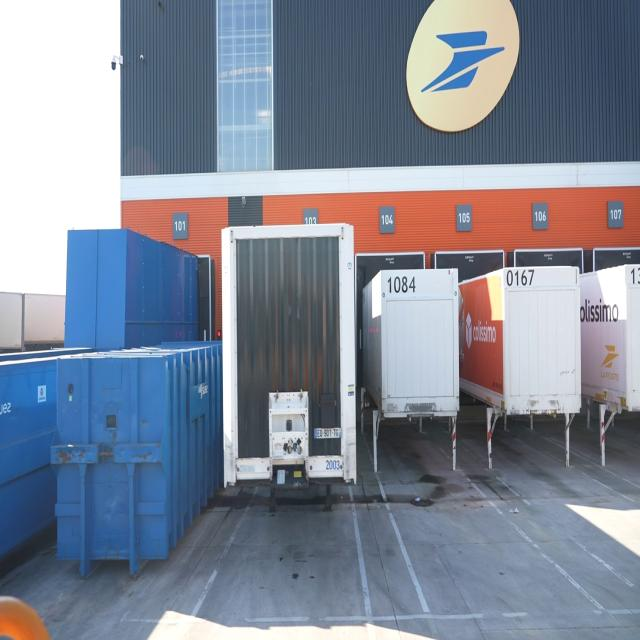Code: (384, 269, 418, 301), (504, 267, 536, 290)
